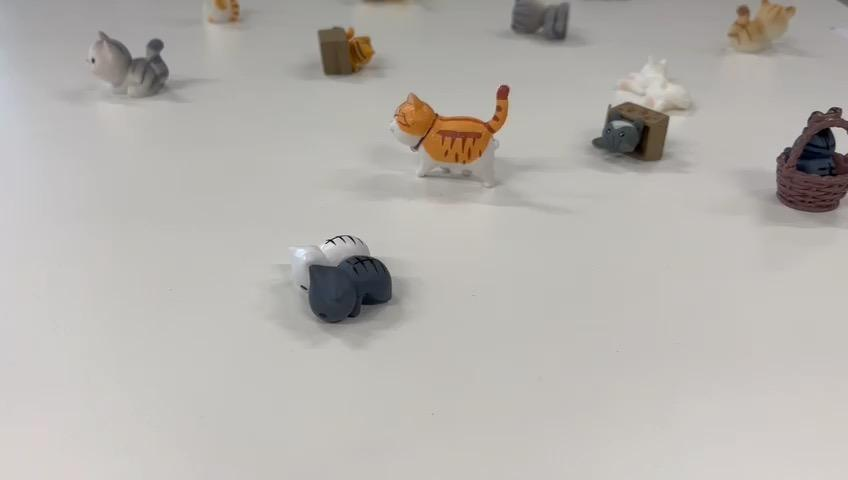pet: (366, 81, 542, 197), (288, 218, 414, 342), (71, 18, 199, 126), (771, 81, 848, 247), (584, 101, 677, 187), (711, 1, 813, 75), (296, 23, 399, 76), (503, 0, 589, 58)
